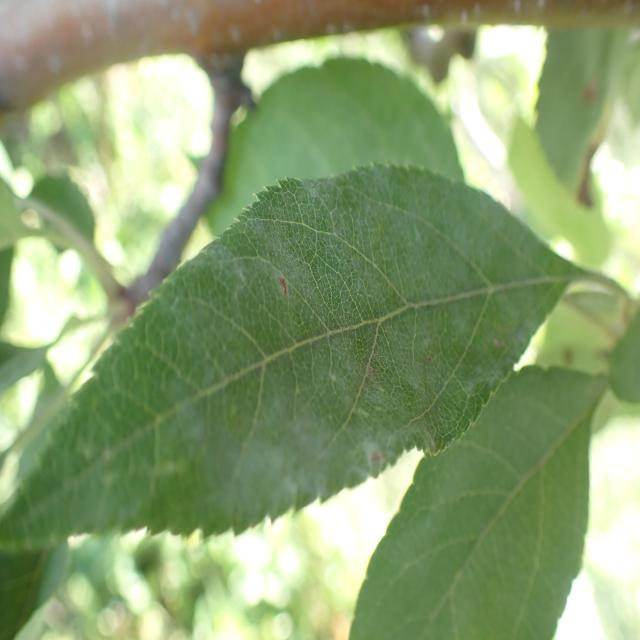Powdery_mildew: (5, 170, 565, 557), (346, 366, 599, 640)
